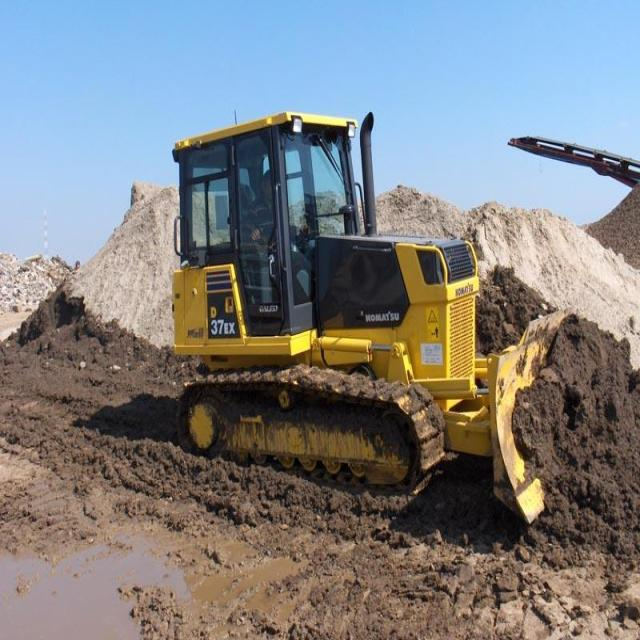buldozerpayloadergrader: (159, 87, 594, 550)
